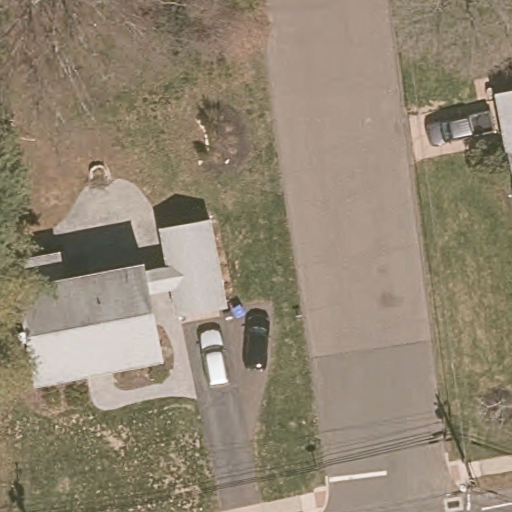DT: (445, 458, 498, 512)
